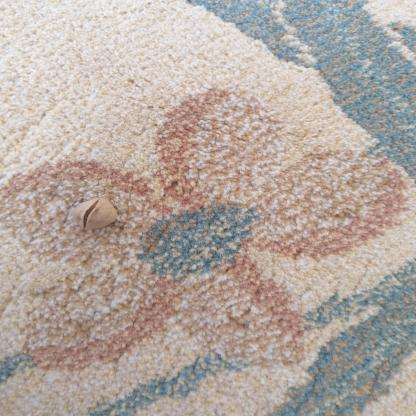pistachio: (67, 187, 122, 230)
